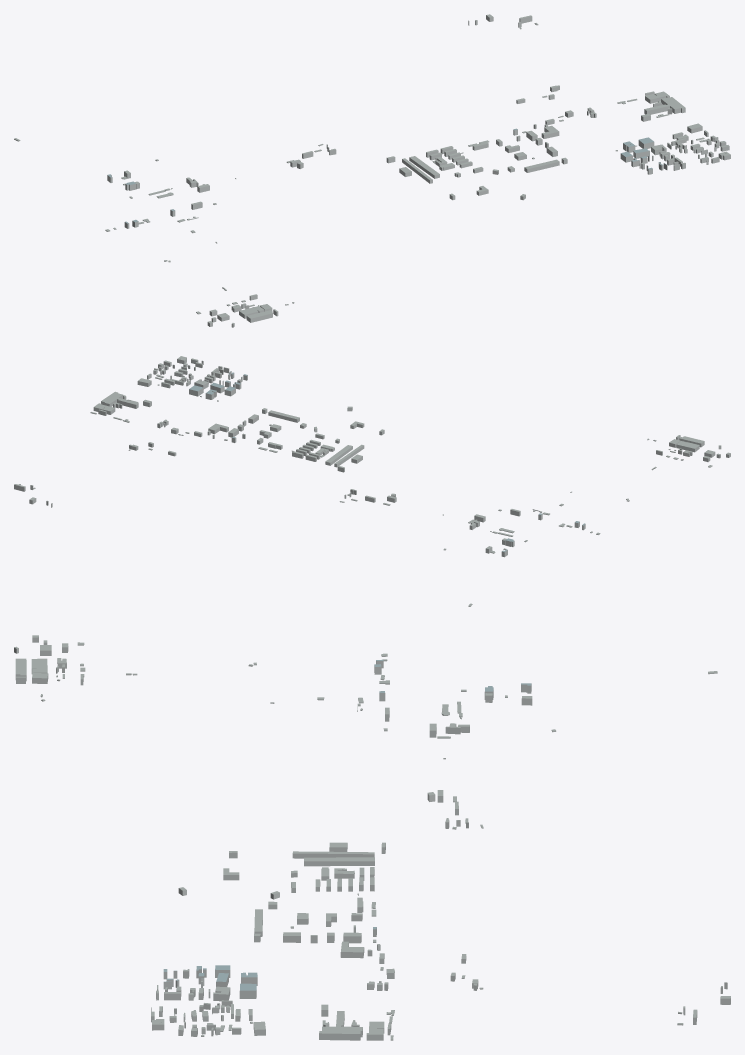
3 renders of one model, top to bottom at view 1: azimuth 30°, elevation 25°; view 2: azimuth 150°, elevation 25°; view 3: azimuth 270°, elevation 25°, orthographic. The views are drawn at different scales.
Parts seen in each view (by area): view 1: 上海全域建筑分块 · mapped building neighborhood; view 2: 上海全域建筑分块 · mapped building neighborhood; view 3: 上海全域建筑分块 · mapped building neighborhood.
Boxes of the visible parts, x1,y1,x2,y2 form: 上海全域建筑分块 · mapped building neighborhood: (14, 14, 730, 327); 上海全域建筑分块 · mapped building neighborhood: (14, 356, 730, 606); 上海全域建筑分块 · mapped building neighborhood: (14, 635, 730, 1040).
Bounding box in the file's own units: 2100 × 21.05 × 1590.
